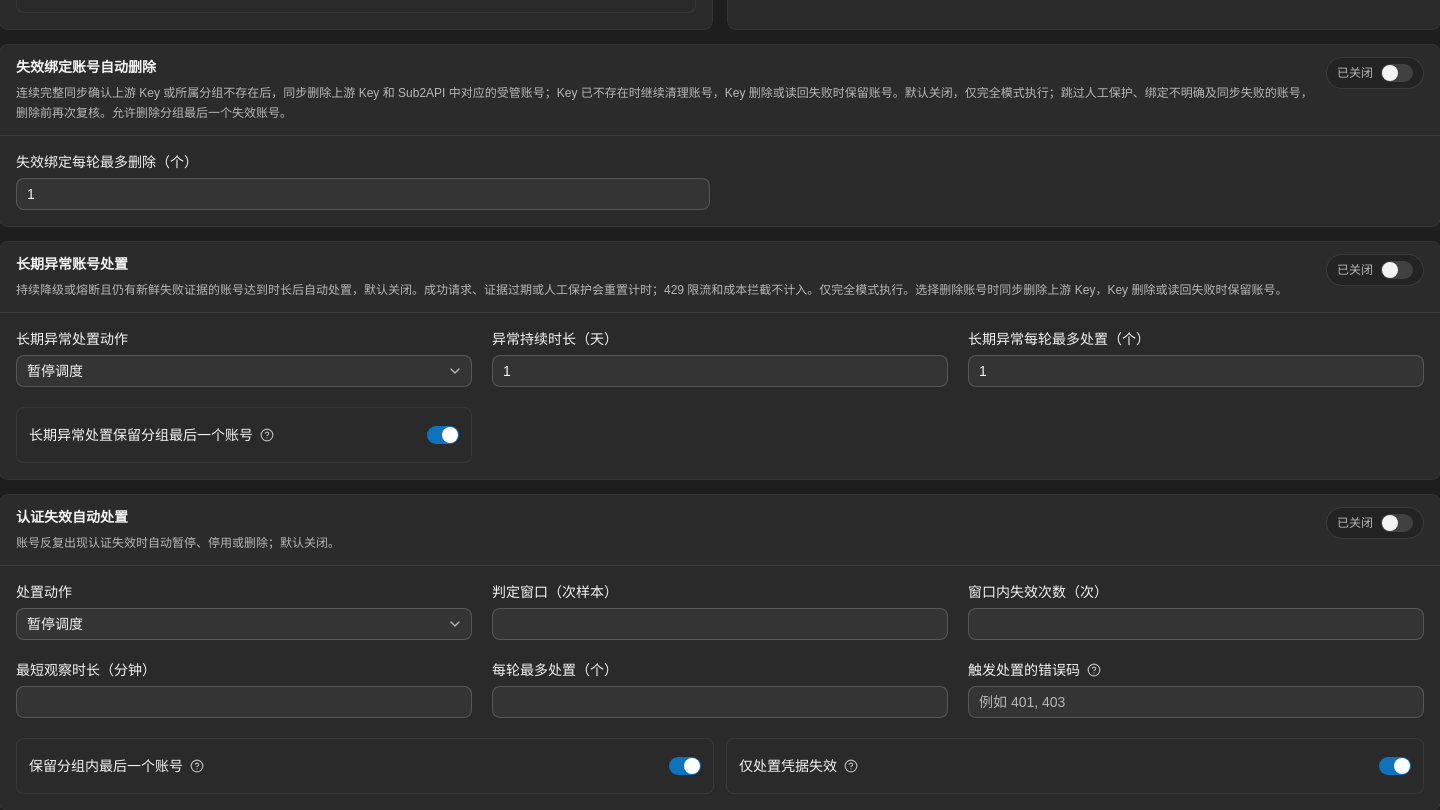
Test: 认证失效处置动作 › 点击选择 none 时回显 仅停止调度，不额外处置，并将协议值写入草稿
The image size is (1440, 810).
(page scrolled)
Click the dropdown named "处置动作".
click(55, 624)  # box [16,608,472,640]
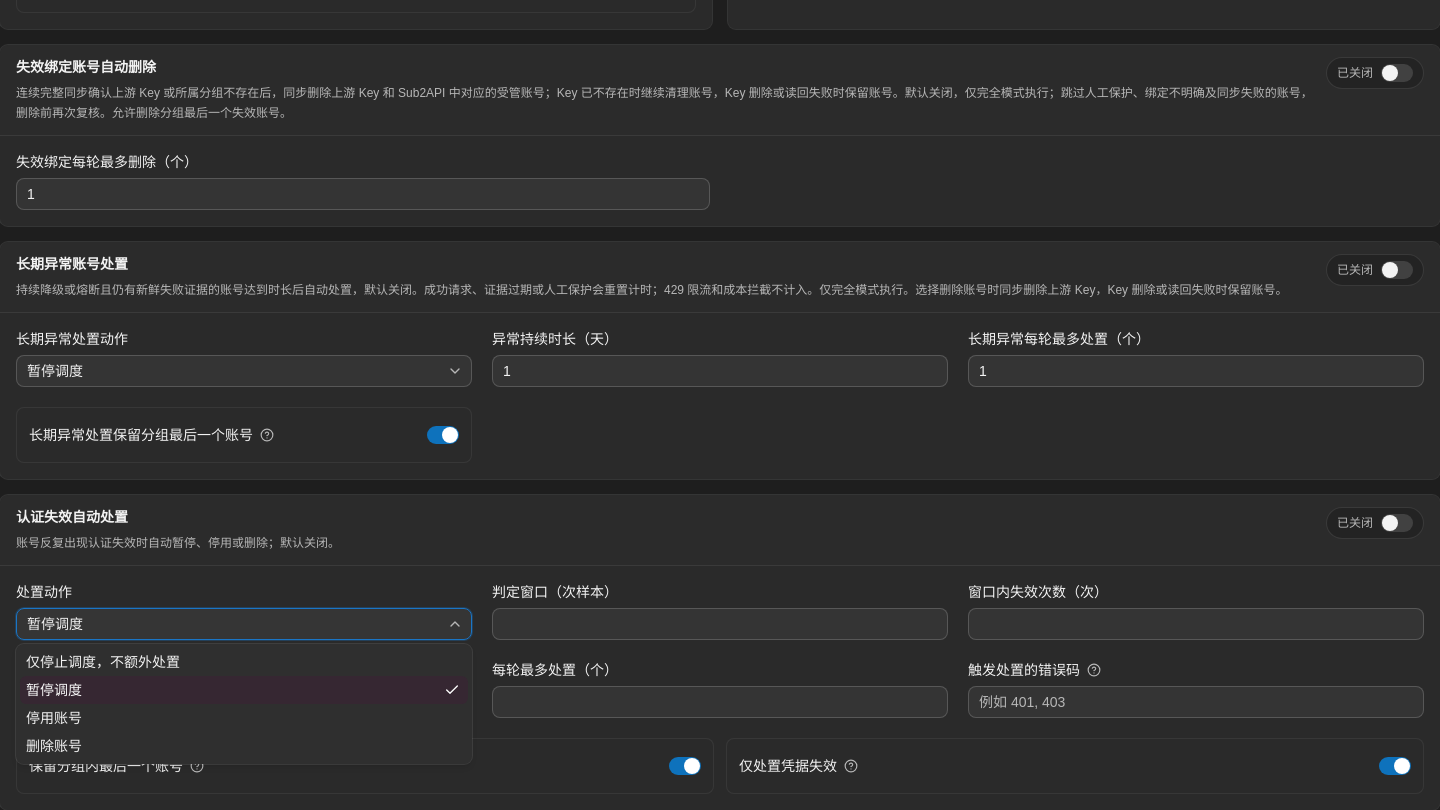
Expected: the dropdown named "处置动作" is expanded, [16,608,472,640]
Click the option "仅停止调度，不额外处置".
click(103, 662)  # box [26,654,180,670]
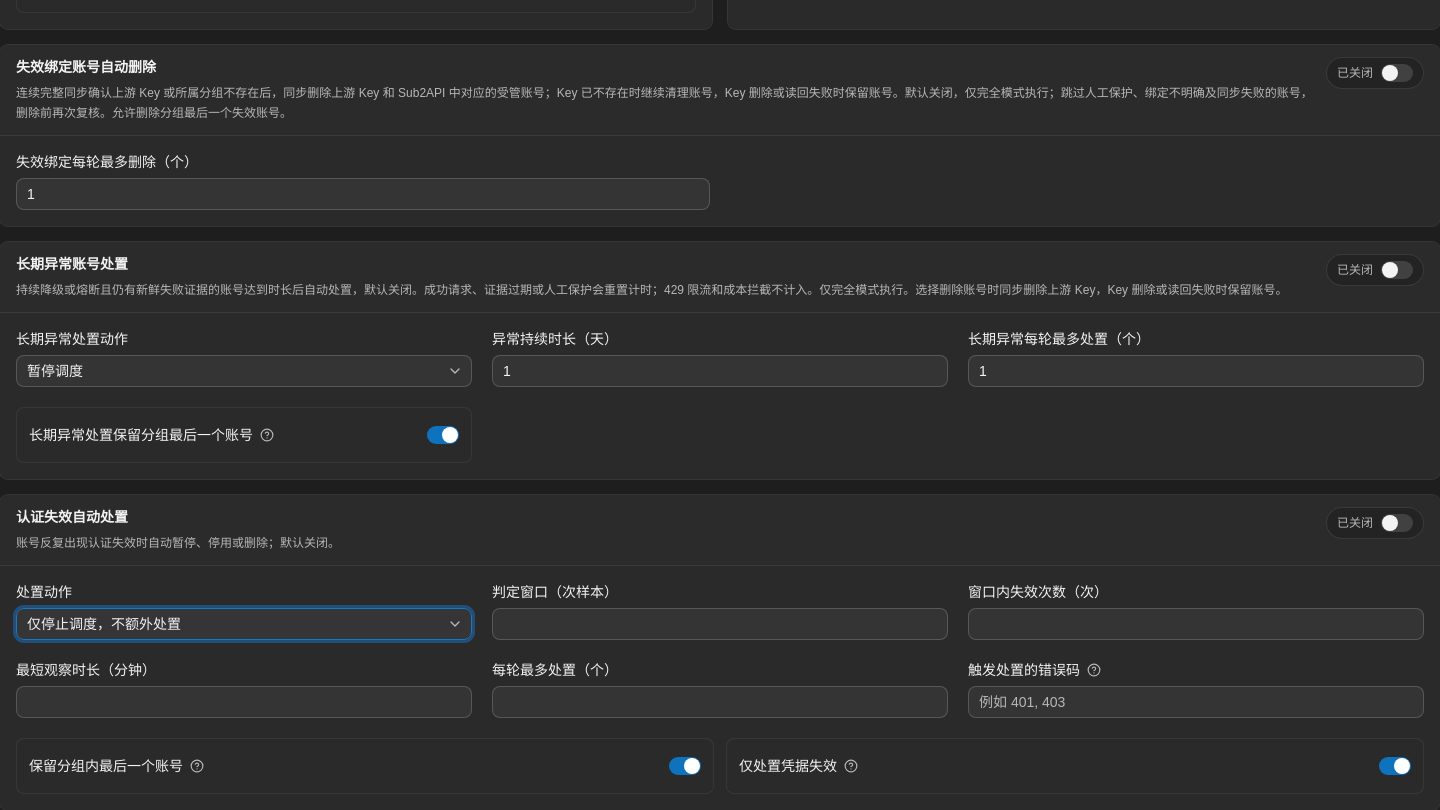
Expected: the dropdown named "处置动作" shows "仅停止调度，不额外处置", [16,608,472,640]
Expected: the dropdown named "处置动作" is collapsed, [16,608,472,640]
